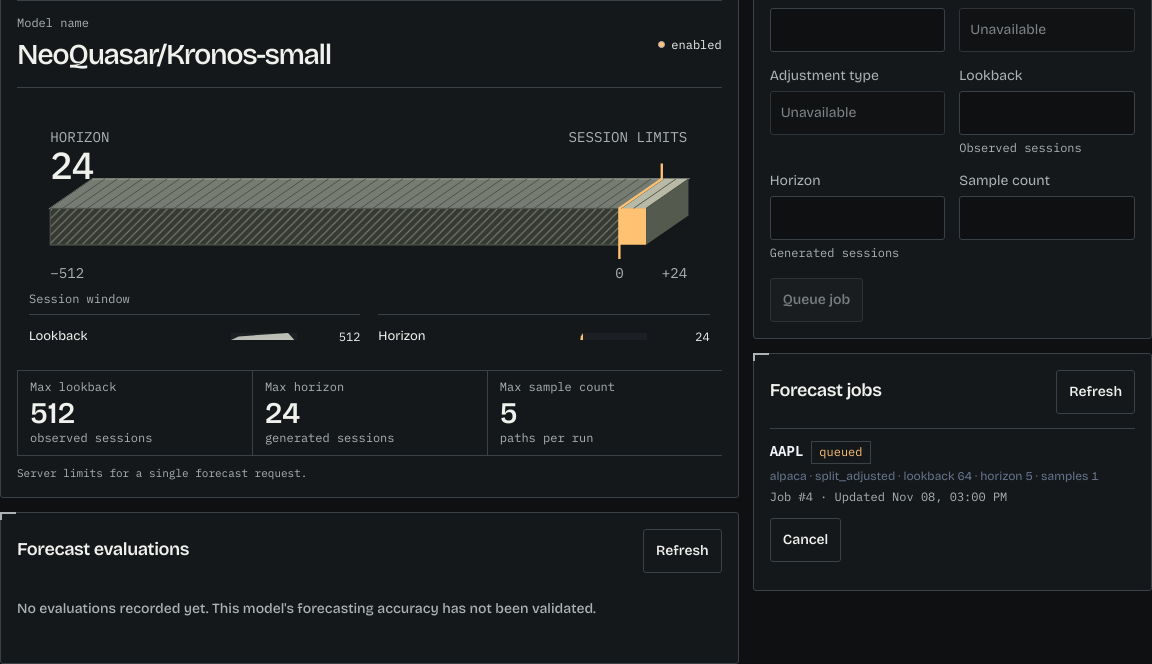
it: Forecast lab › test_cancelling_a_job_calls_the_api_and_refreshes_the_list
(page scrolled)
Click the button "Cancel".
click(806, 540)  # box [770,518,841,562]
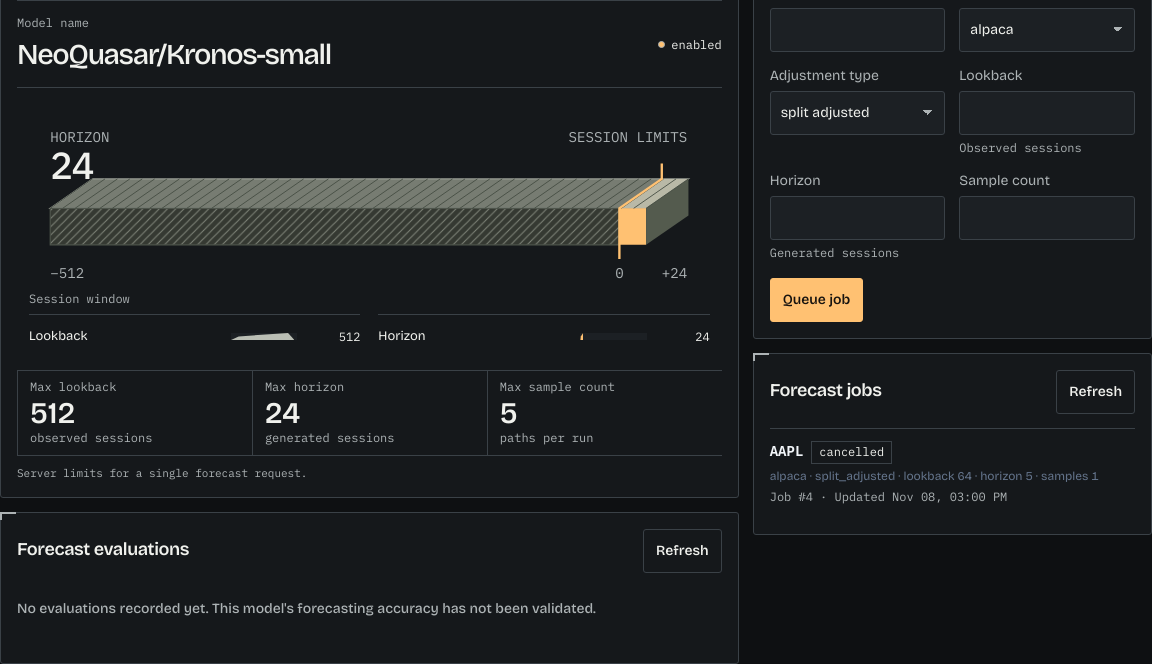
Result: the text "cancelled" is shown at [811,441,892,464]
